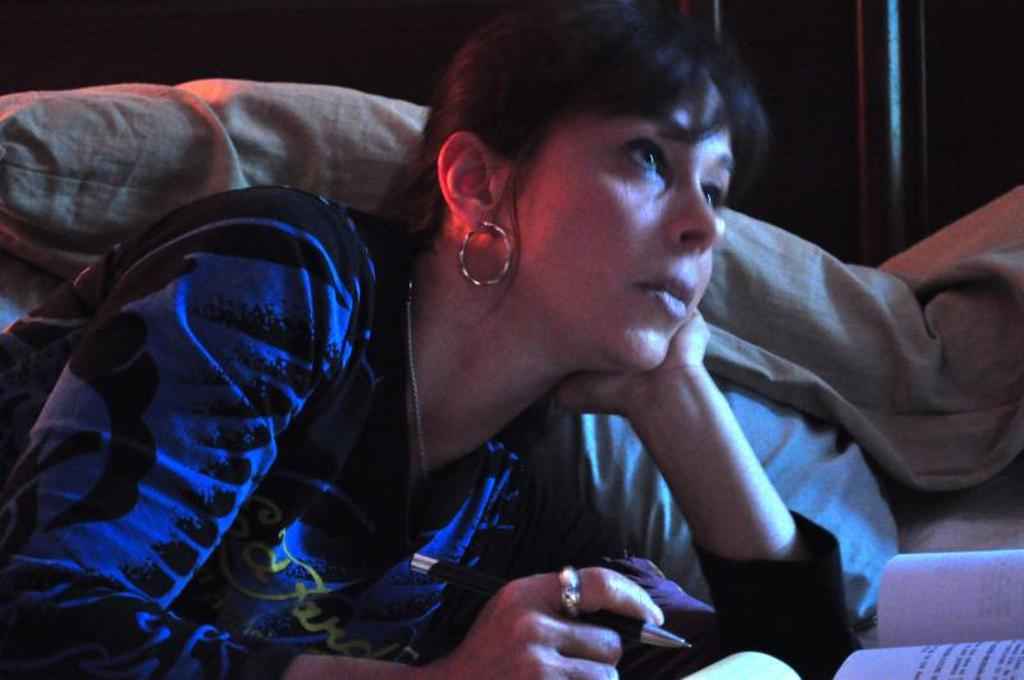face: (520, 54, 736, 368)
